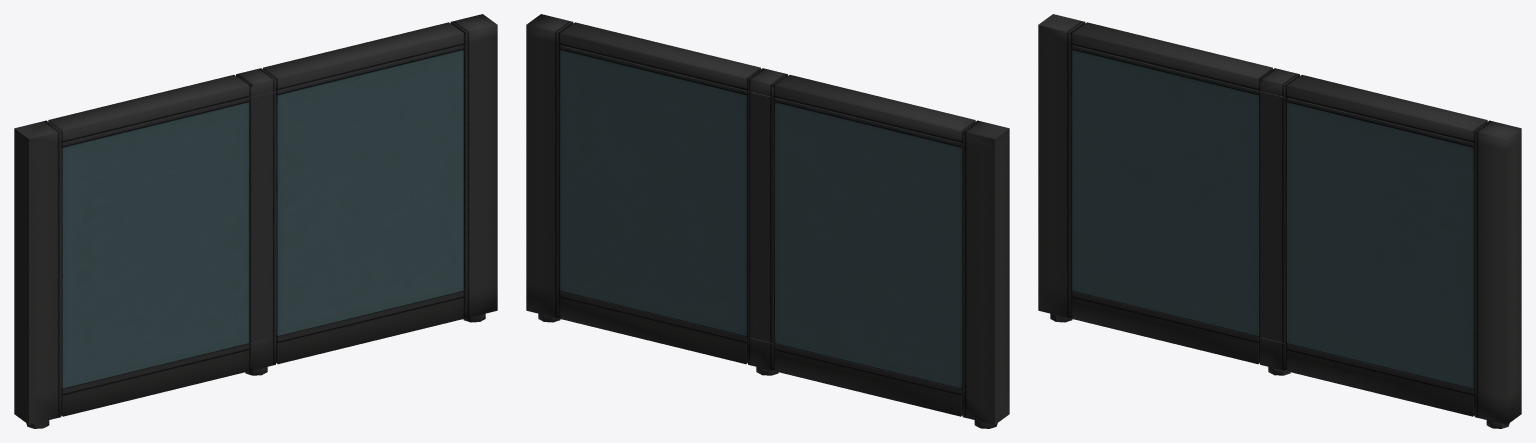
Rendered from ENV_LowPartition_2m_v001.fbx.
3 renders of one model, left to right at view 1: azimuth 30°, elevation 25°; view 2: azimuth 150°, elevation 25°; view 3: azimuth 330°, elevation 25°, orthographic.
Visible parts, largest first — view 1: 큐브_001; view 2: 큐브_001; view 3: 큐브_001.
Part boxes in pixels (box(x1,y1,x2,y2)): 큐브_001: box(14, 14, 497, 428); 큐브_001: box(526, 14, 1009, 428); 큐브_001: box(1038, 14, 1521, 428).
Size of the model in its own units: 200 by 120 by 11.01.
Materials: 1 (1 with a texture image).
